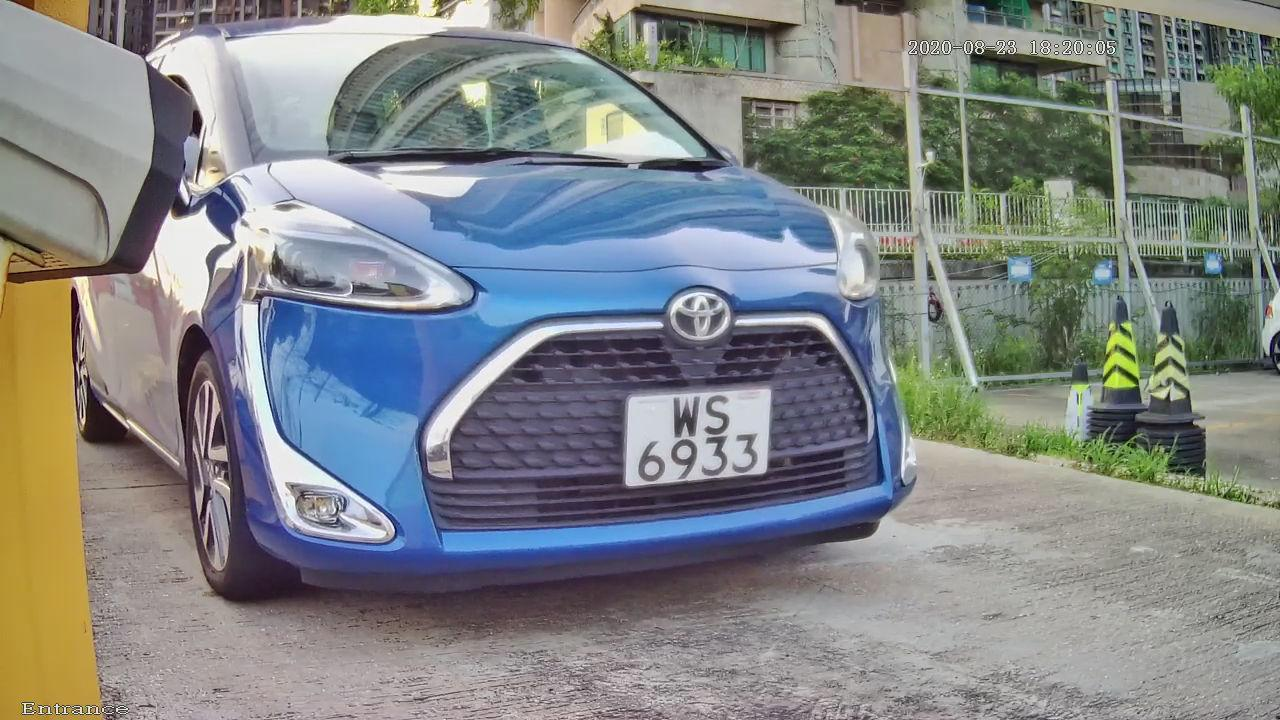Car: (46, 13, 1006, 640)
License Plate: (578, 361, 823, 518)
